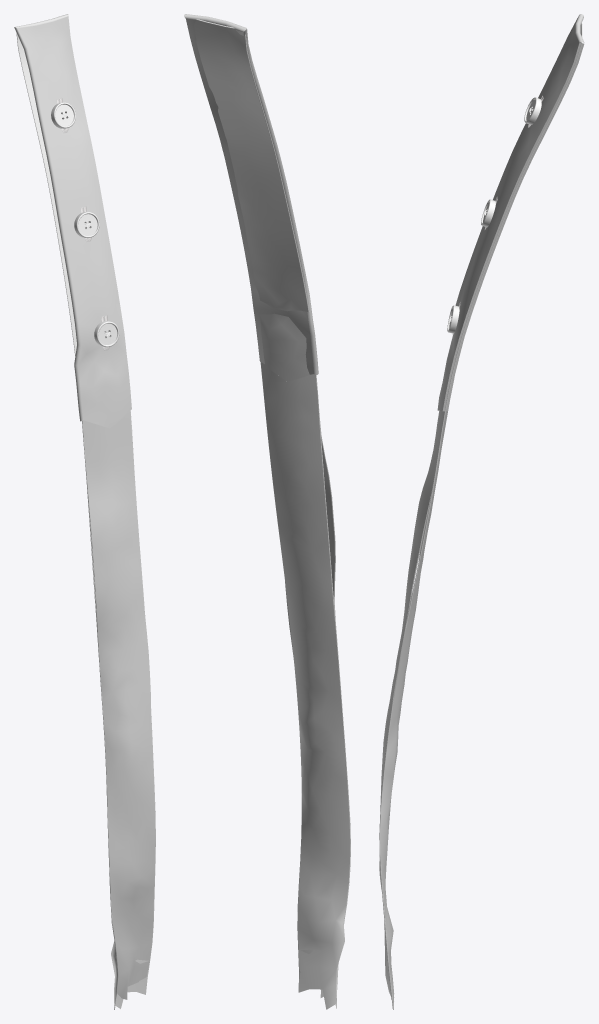
File: Popover_Placket.glb
The picture shows the model from 3 angles, left to right: view 1: azimuth 30°, elevation 25°; view 2: azimuth 150°, elevation 25°; view 3: azimuth 270°, elevation 25°; orthographic projection. The views are drawn at different scales.
Parts seen in each view (by area): view 1: Popover_Placket_Node003, Popover_Placket_Node002, Popover_Placket_Node, Popover_Placket_Node001, button002.002, button004.003, button001.003; view 2: Popover_Placket_Node001, Popover_Placket_Node, Popover_Placket_Node002, Popover_Placket_Node003; view 3: Popover_Placket_Node002, Popover_Placket_Node001, Popover_Placket_Node003, Popover_Placket_Node.
Part boxes in pixels (bbox=[...]): Popover_Placket_Node003: bbox=[82, 411, 155, 999]; Popover_Placket_Node002: bbox=[14, 14, 131, 428]; Popover_Placket_Node: bbox=[16, 33, 76, 355]; Popover_Placket_Node001: bbox=[82, 413, 155, 1009]; button002.002: bbox=[74, 212, 99, 237]; button004.003: bbox=[94, 321, 119, 347]; button001.003: bbox=[51, 102, 75, 128]; Popover_Placket_Node001: bbox=[260, 362, 350, 1009]; Popover_Placket_Node: bbox=[194, 19, 309, 381]; Popover_Placket_Node002: bbox=[184, 14, 318, 374]; Popover_Placket_Node003: bbox=[262, 375, 350, 997]; Popover_Placket_Node002: bbox=[437, 14, 584, 411]; Popover_Placket_Node001: bbox=[379, 411, 447, 1009]; Popover_Placket_Node003: bbox=[379, 411, 444, 996]; Popover_Placket_Node: bbox=[445, 21, 582, 411].
Bounding box in the file's own units: 3.03 × 49.6 × 9.38.
Materials: 9 (3 with a texture image).
